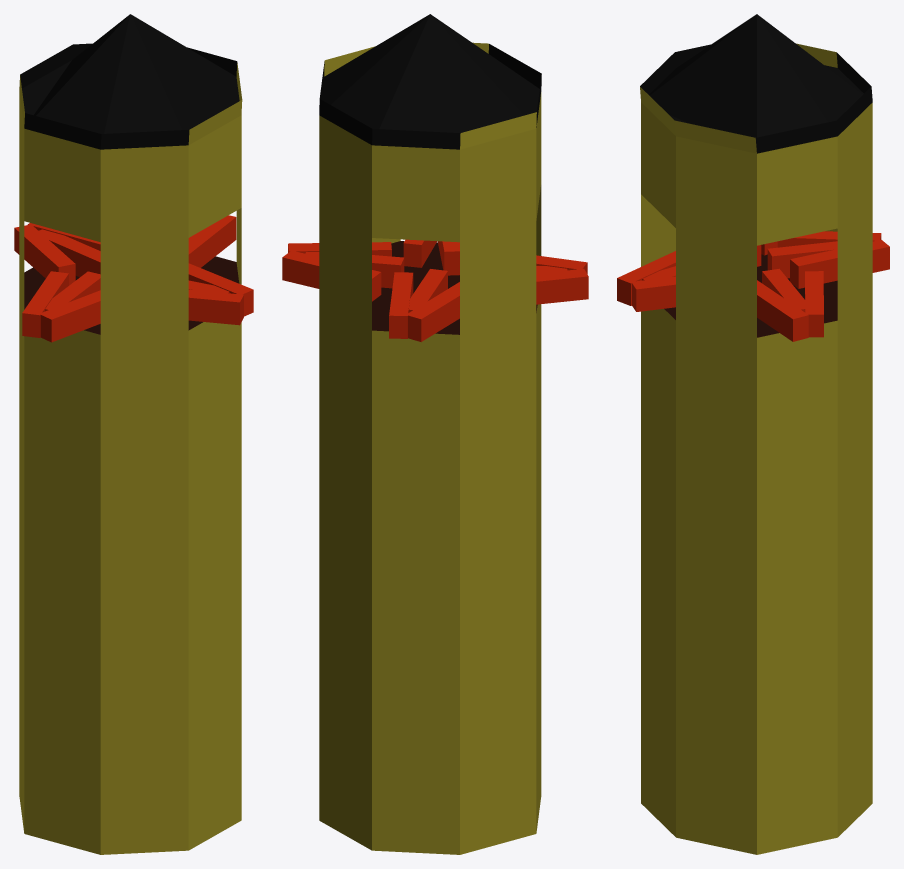
The model's file is ballistictower1.obj.
The picture shows the model from 3 angles, left to right: view 1: azimuth 30°, elevation 25°; view 2: azimuth 150°, elevation 25°; view 3: azimuth 270°, elevation 25°; orthographic projection.
Parts seen in each view (by area): view 1: Cube, Cube.011, Cube.005, Cube.007, Cube.001, Cube.010, Cube.006, Cube.008, Cube.012; view 2: Cube, Cube.005, Cube.010, Cube.002, Cube.004, Cube.006, Cube.003, Cube.008, Cube.009; view 3: Cube, Cube.001, Cube.004, Cube.008, Cube.002, Cube.006, Cube.007, Cube.003, Cube.005.
Boxes of the visible parts, x1=… form: Cube: x1=19, y1=14, x2=242, y2=854; Cube.011: x1=39, y1=290, x2=100, y2=342; Cube.005: x1=14, y1=225, x2=75, y2=285; Cube.007: x1=188, y1=289, x2=243, y2=325; Cube.001: x1=188, y1=215, x2=236, y2=267; Cube.010: x1=22, y1=271, x2=68, y2=337; Cube.006: x1=39, y1=229, x2=100, y2=277; Cube.008: x1=188, y1=263, x2=253, y2=316; Cube.012: x1=45, y1=271, x2=100, y2=311; Cube: x1=319, y1=14, x2=541, y2=854; Cube.005: x1=406, y1=282, x2=459, y2=341; Cube.010: x1=536, y1=268, x2=588, y2=304; Cube.002: x1=282, y1=251, x2=381, y2=301; Cube.004: x1=389, y1=272, x2=413, y2=338; Cube.006: x1=408, y1=269, x2=447, y2=312; Cube.003: x1=305, y1=252, x2=404, y2=288; Cube.008: x1=403, y1=239, x2=436, y2=267; Cube.009: x1=437, y1=241, x2=459, y2=275; Cube: x1=640, y1=14, x2=872, y2=854; Cube.001: x1=757, y1=280, x2=808, y2=341; Cube.004: x1=790, y1=239, x2=889, y2=288; Cube.008: x1=631, y1=276, x2=675, y2=311; Cube.002: x1=805, y1=271, x2=823, y2=337; Cube.006: x1=767, y1=241, x2=837, y2=278; Cube.007: x1=617, y1=251, x2=675, y2=305; Cube.003: x1=762, y1=268, x2=805, y2=312; Cube.005: x1=777, y1=231, x2=881, y2=247.
Size of the model in its own units: 3.65 by 10.77 by 3.38.
